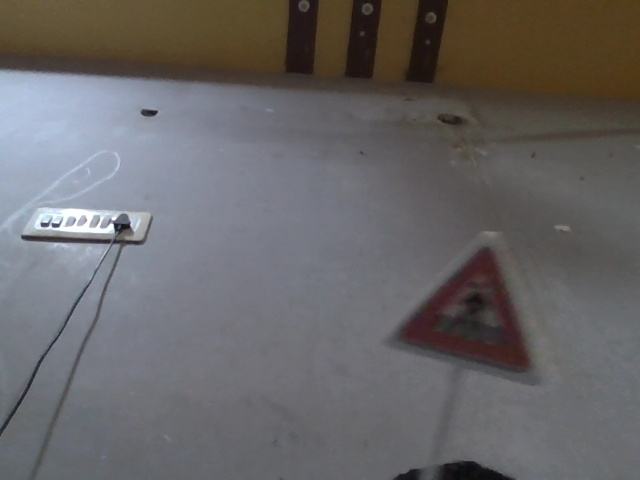crossing: (414, 220, 566, 381)
